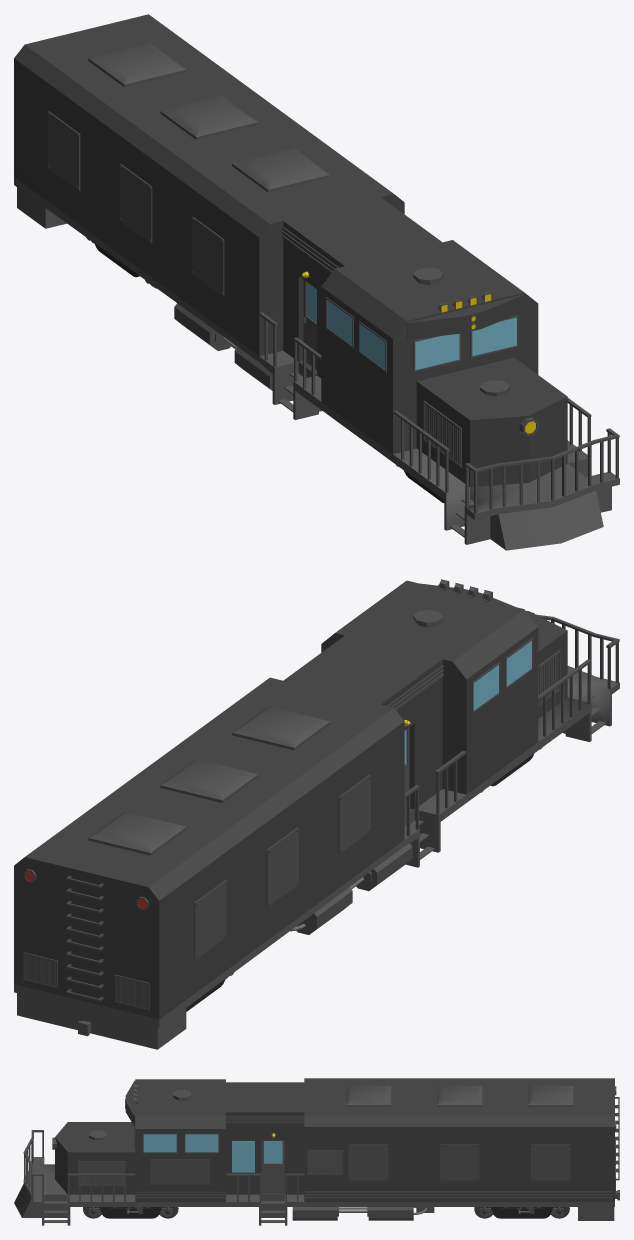
File: SM_Vehicles_Train_01.fbx
3 views of the same model, one above another, from view 1: azimuth 30°, elevation 25°; view 2: azimuth 150°, elevation 25°; view 3: azimuth 270°, elevation 25° (orthographic). The views are drawn at different scales.
Parts seen in each view (by area): view 1: SM_Vehicles_Train_01; view 2: SM_Vehicles_Train_01; view 3: SM_Vehicles_Train_01.
Part boxes in pixels (box(x1,y1,x2,y2)): SM_Vehicles_Train_01: box(14, 14, 619, 550); SM_Vehicles_Train_01: box(14, 579, 619, 1049); SM_Vehicles_Train_01: box(14, 1078, 619, 1225).
Size of the model in its own units: 3.59 by 4.21 by 19.96.
